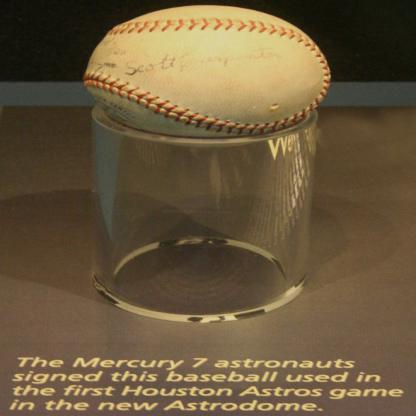Ball: (79, 5, 331, 136)
